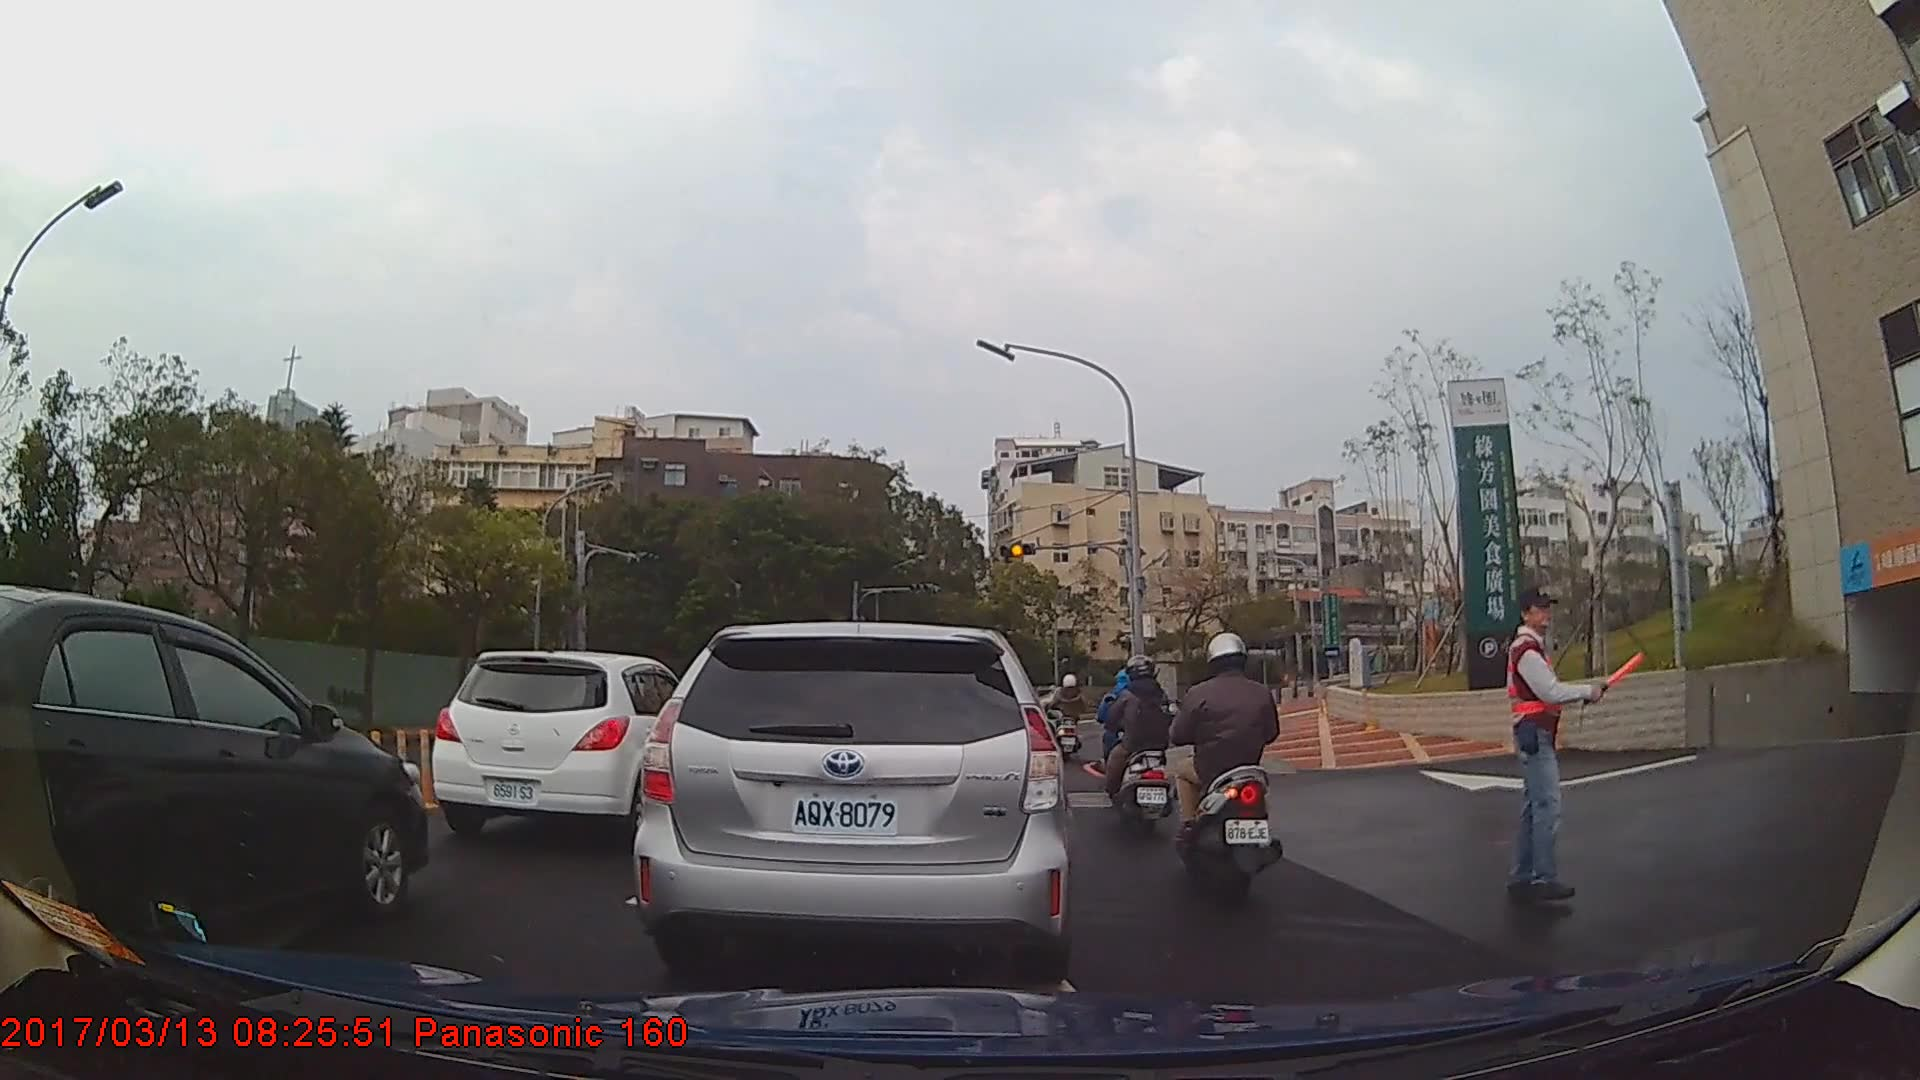pedestrian: (1503, 588, 1640, 900)
rider: (1172, 628, 1288, 908), (1104, 654, 1179, 832), (1053, 671, 1089, 764)
vehicle: (0, 582, 430, 959), (630, 619, 1073, 975), (432, 650, 715, 843)
